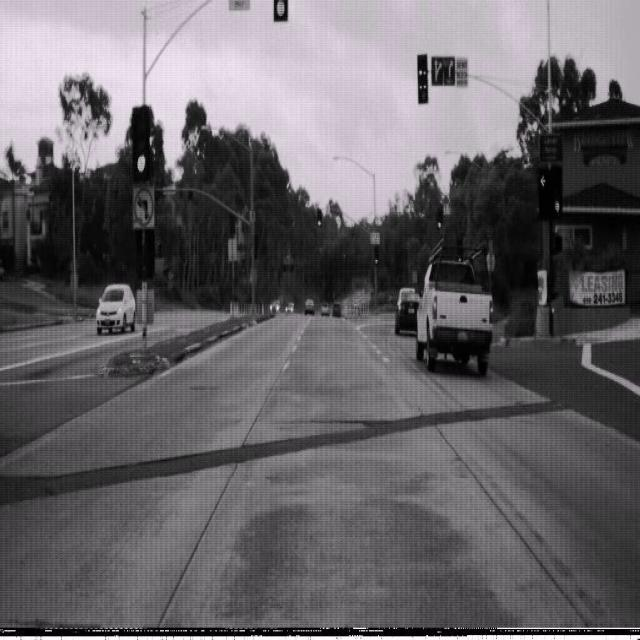noLeftTurn: (132, 185, 154, 227)
